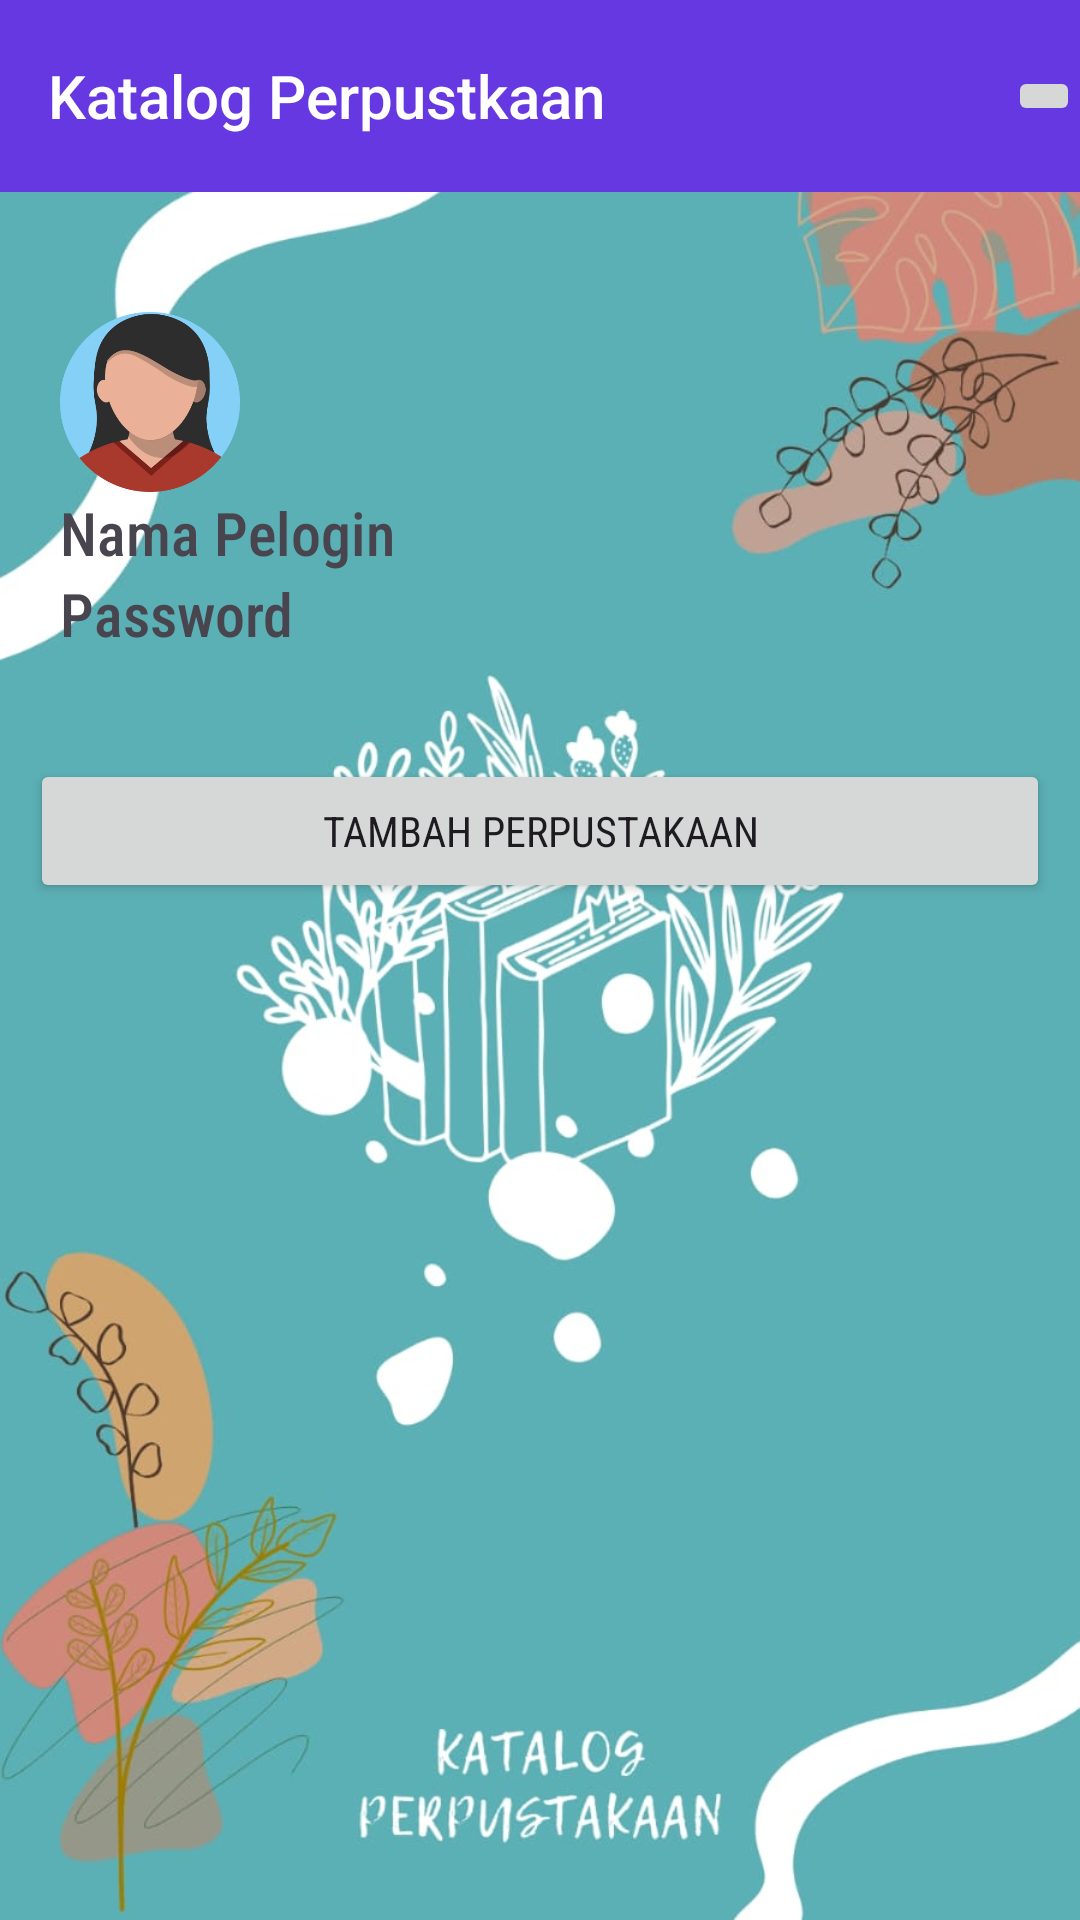

Icons on this 1080*1920 Android screen, each with its box as box=[x1, y1, x2, y2]:
akun: box=[60, 312, 240, 492]
